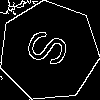S: (24, 26, 79, 74)
